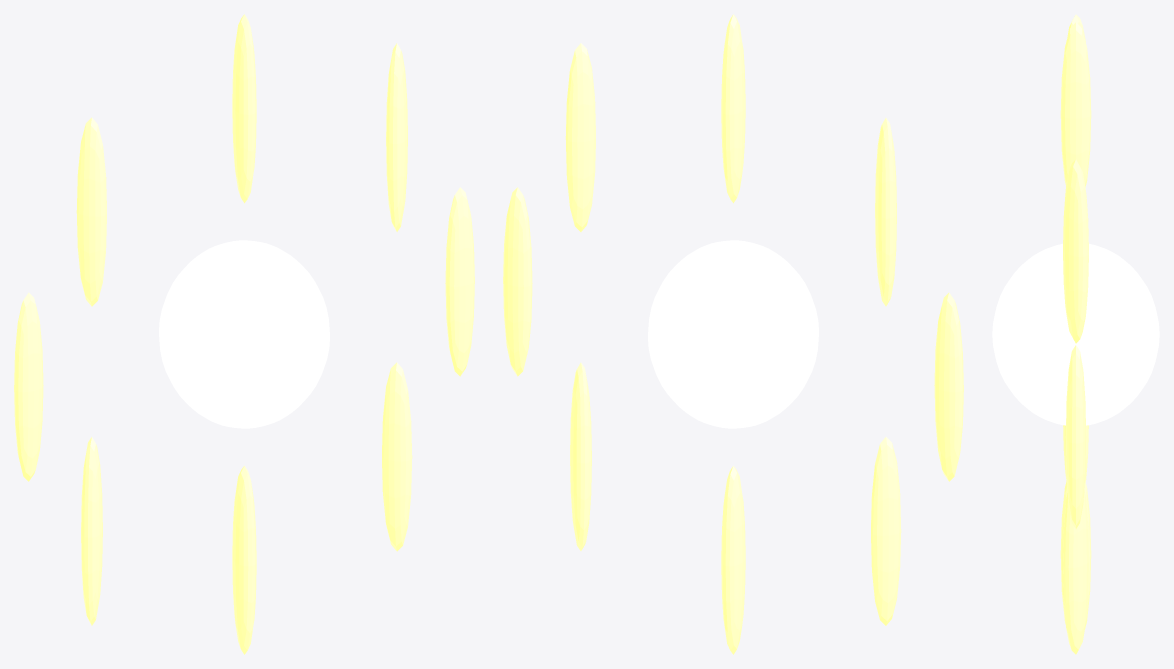
The model's file is highfive_burst.glb.
3 views of the same model, side by side, from view 1: azimuth 30°, elevation 25°; view 2: azimuth 150°, elevation 25°; view 3: azimuth 270°, elevation 25° (orthographic). The views are drawn at different scales.
Visible parts, largest first — view 1: highfive_burst; view 2: highfive_burst; view 3: highfive_burst.
Part boxes in pixels (x1,y1,x2,y2): highfive_burst: [14, 14, 474, 654]; highfive_burst: [503, 14, 963, 654]; highfive_burst: [992, 14, 1159, 654].
Bounding box in the file's own units: 0.4252 × 0.5679 × 0.1379.
